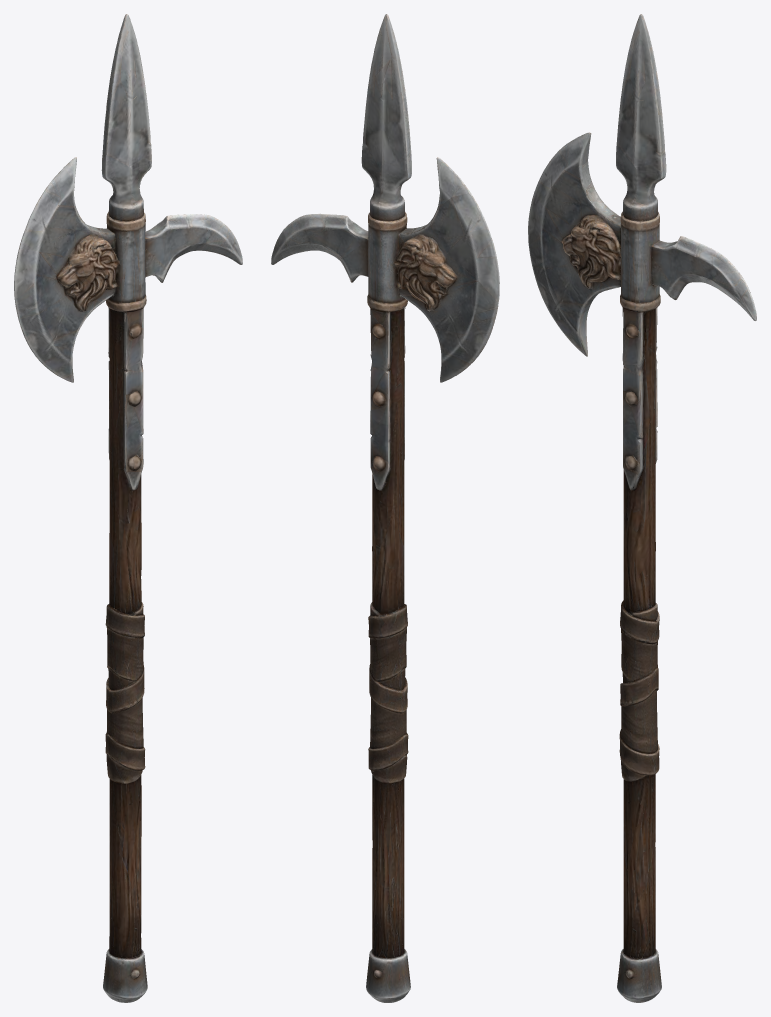
File: halberd.glb
3 renders of one model, left to right at view 1: azimuth 30°, elevation 25°; view 2: azimuth 150°, elevation 25°; view 3: azimuth 330°, elevation 25°, orthographic.
Visible parts, largest first — view 1: Mesh_0; view 2: Mesh_0; view 3: Mesh_0.
Part boxes in pixels (bbox=[...]): Mesh_0: bbox=[14, 14, 242, 1002]; Mesh_0: bbox=[271, 14, 499, 1002]; Mesh_0: bbox=[528, 14, 756, 1002].
Bounding box in the file's own units: 0.4849 × 2 × 0.084.
1 material, 1 textured.
